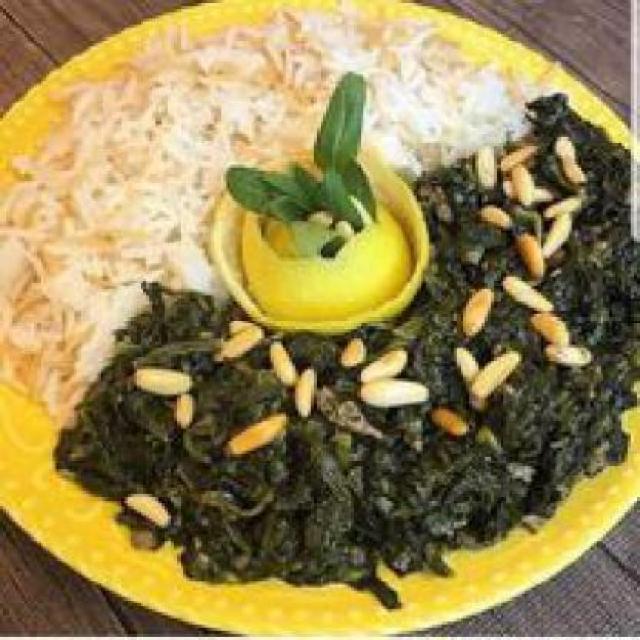fried rice: (9, 6, 476, 283)
molokhia: (106, 173, 622, 584)
